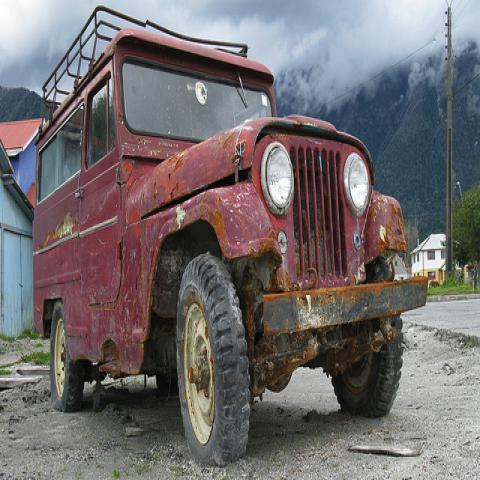car: (32, 25, 430, 468), (427, 280, 441, 289)
truck: (35, 7, 433, 427)
